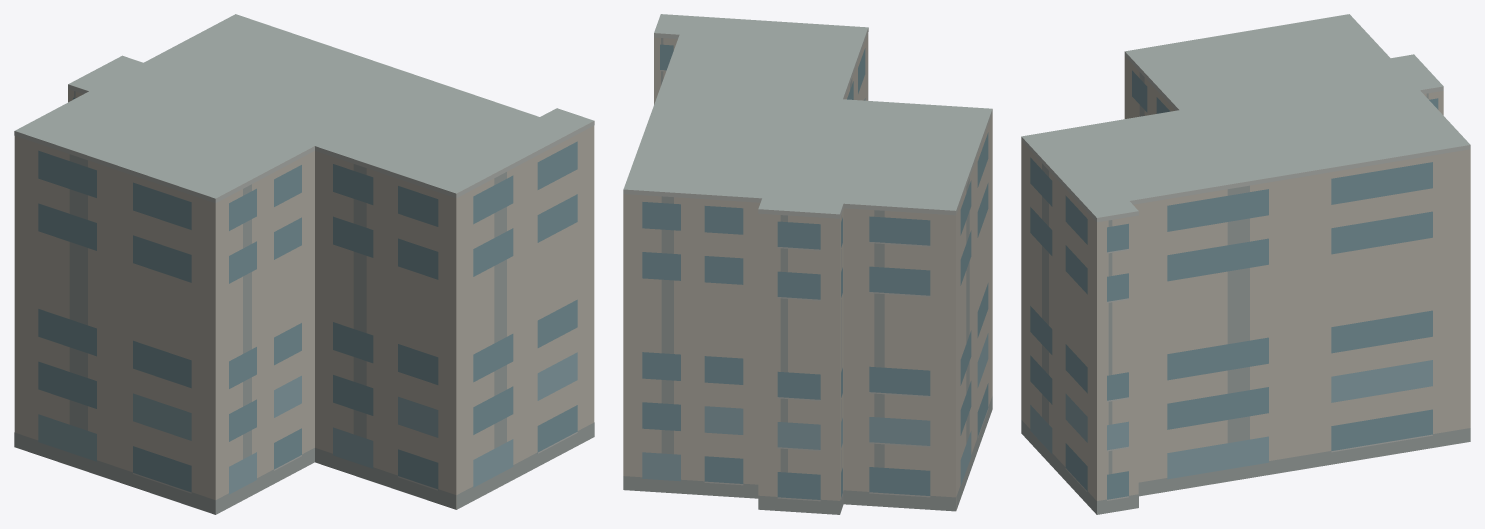
File: survey-upis-32594721.glb
3 renders of one model, left to right at view 1: azimuth 30°, elevation 25°; view 2: azimuth 150°, elevation 25°; view 3: azimuth 270°, elevation 25°, orthographic. The views are drawn at different scales.
Visible parts, largest first — view 1: survey-upis-32594721.tmp; view 2: survey-upis-32594721.tmp; view 3: survey-upis-32594721.tmp.
Part boxes in pixels (<box>): survey-upis-32594721.tmp: <box>14,14,594,514</box>; survey-upis-32594721.tmp: <box>623,14,992,514</box>; survey-upis-32594721.tmp: <box>1021,14,1470,514</box>.
Size of the model in its own units: 24.18 by 16.4 by 22.5.
